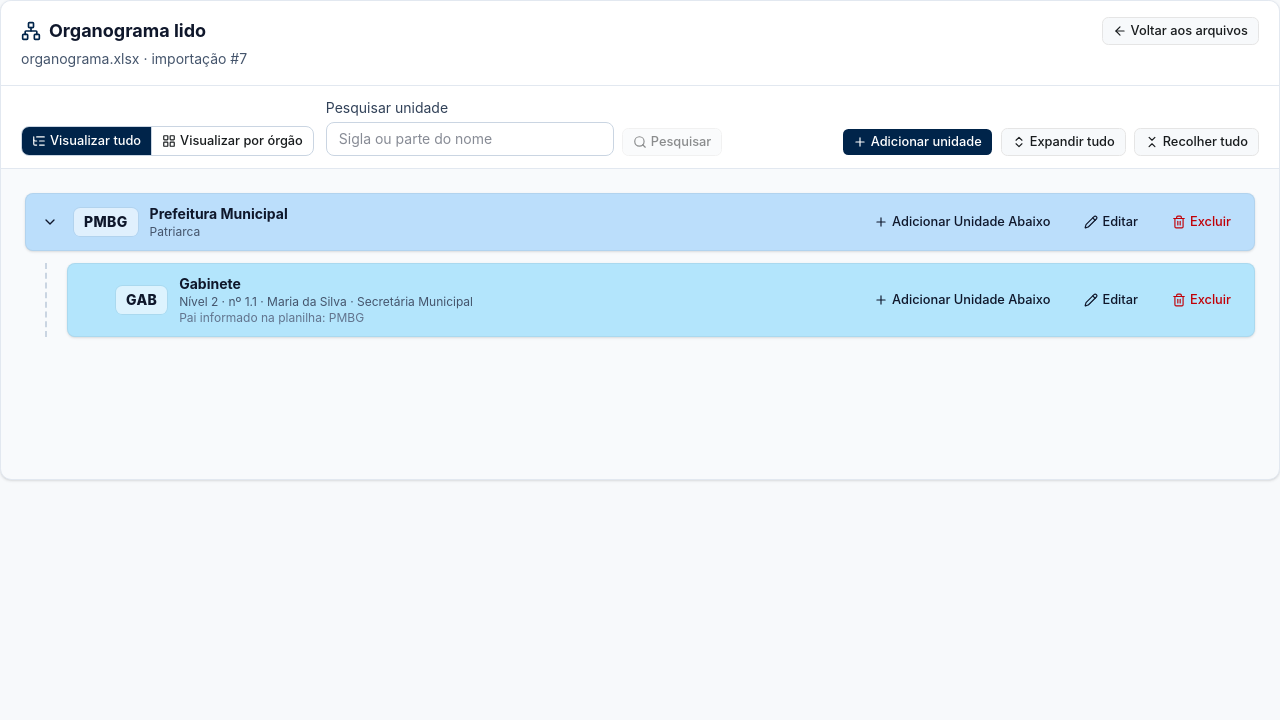
Test case: visualização hierárquica do organograma › vincula ao campo de sigla o erro de unicidade devolvido pelo backend
The image size is (1280, 720).
Click the button "Adicionar unidade" at (917, 142), box [842,128,993,156]
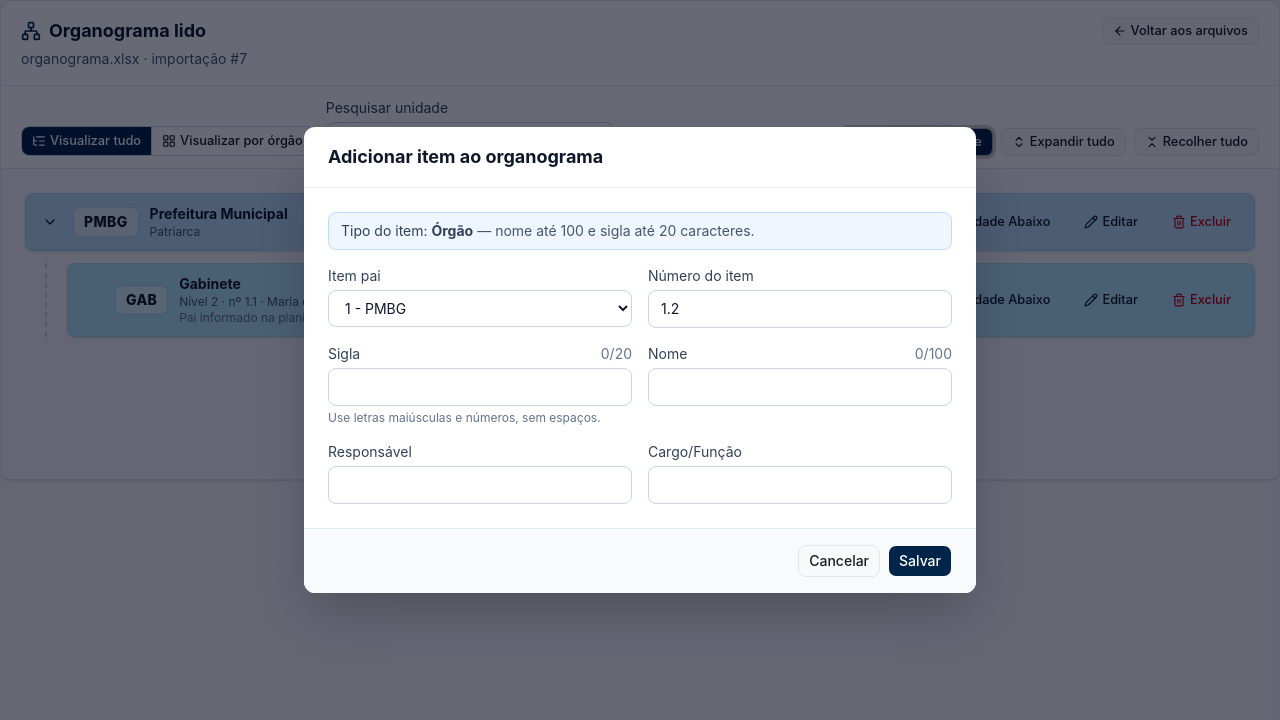
Type "pmbg" into the field labelled "Sigla" at (480, 387), box [328,368,632,406]
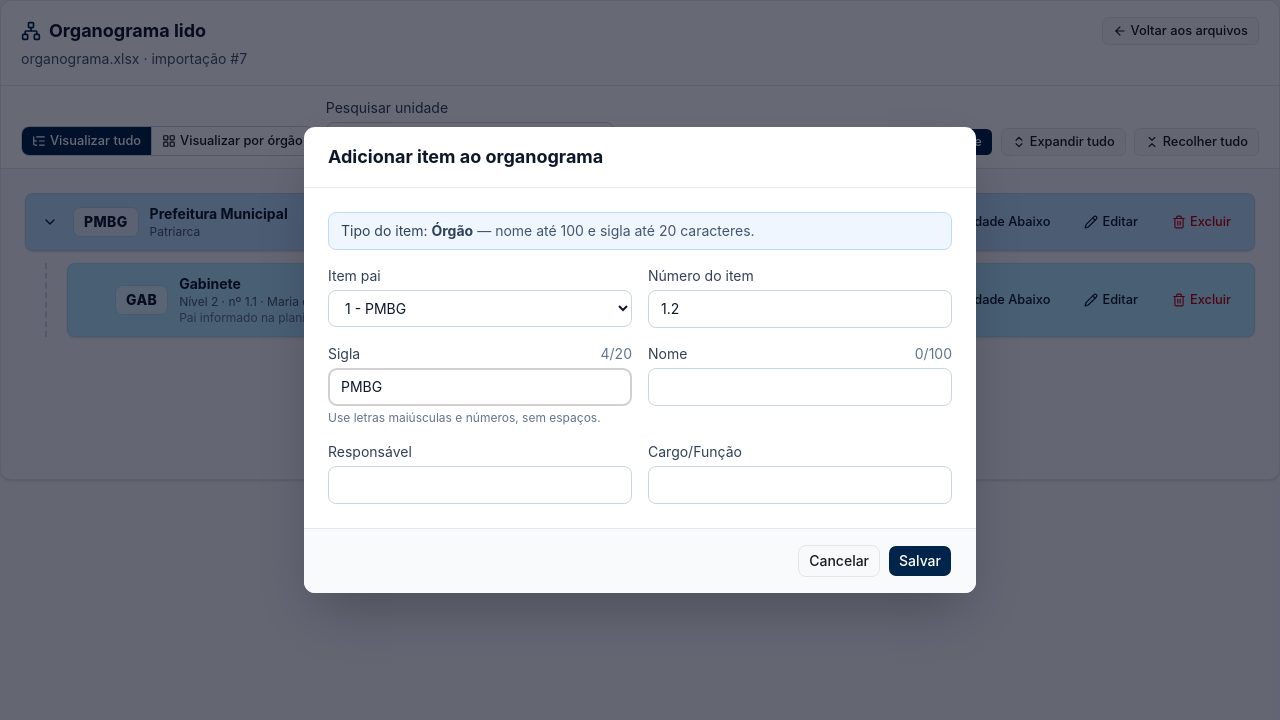
Type "Outro órgão" into the field labelled "Nome" at (800, 387), box [648,368,952,406]
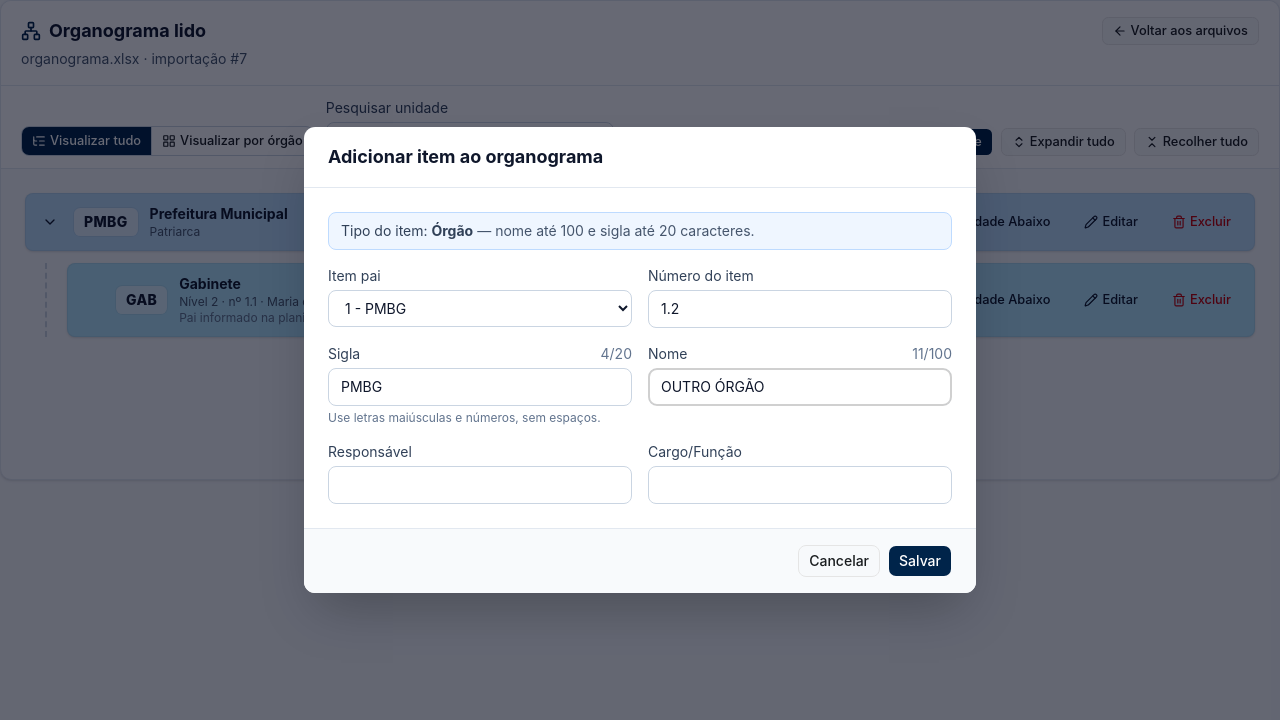
Click the button "Salvar" at (920, 561), box [888,545,952,577]
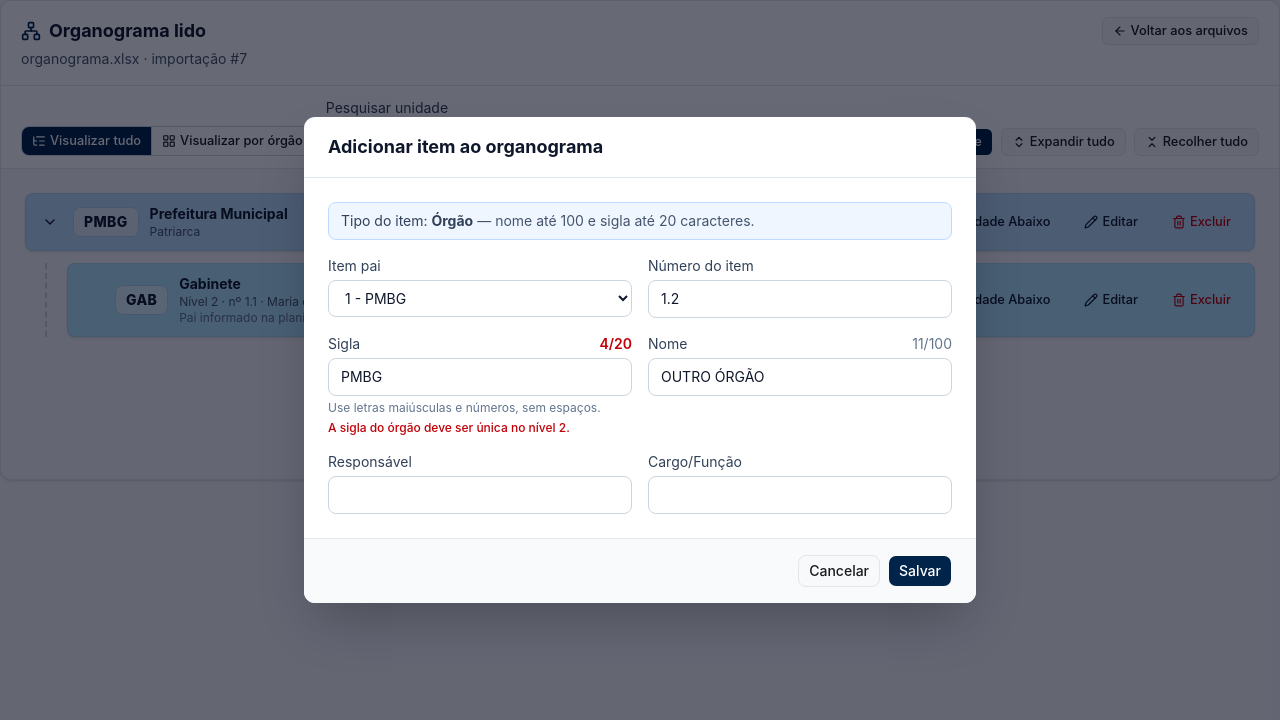
Result: the text "A sigla do órgão deve ser única no nível 2." is shown at [328,420,570,435]
